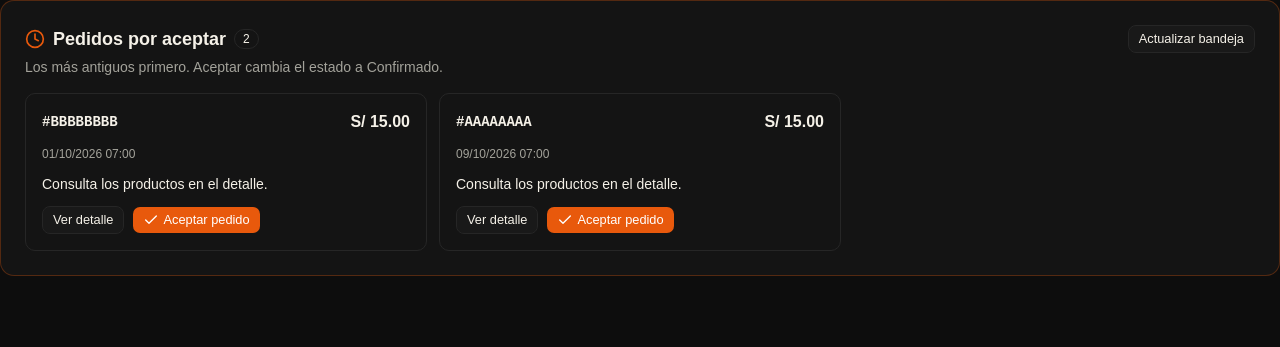
retains pending order and reports HTTP 400 failure
Click the button "Aceptar pedido" below "01/10/2026 07:00": (197, 220) [132,206,261,234]
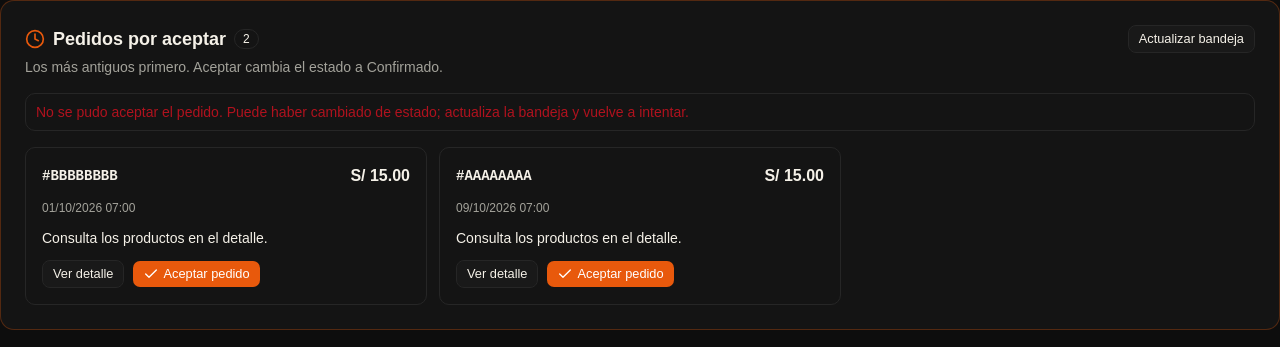
Expected: the element named "Pedido #BBBBBBBB" is shown, [25,147,427,305]
Expected: the text "No se pudo aceptar el pedido" is shown, [36,104,689,120]
